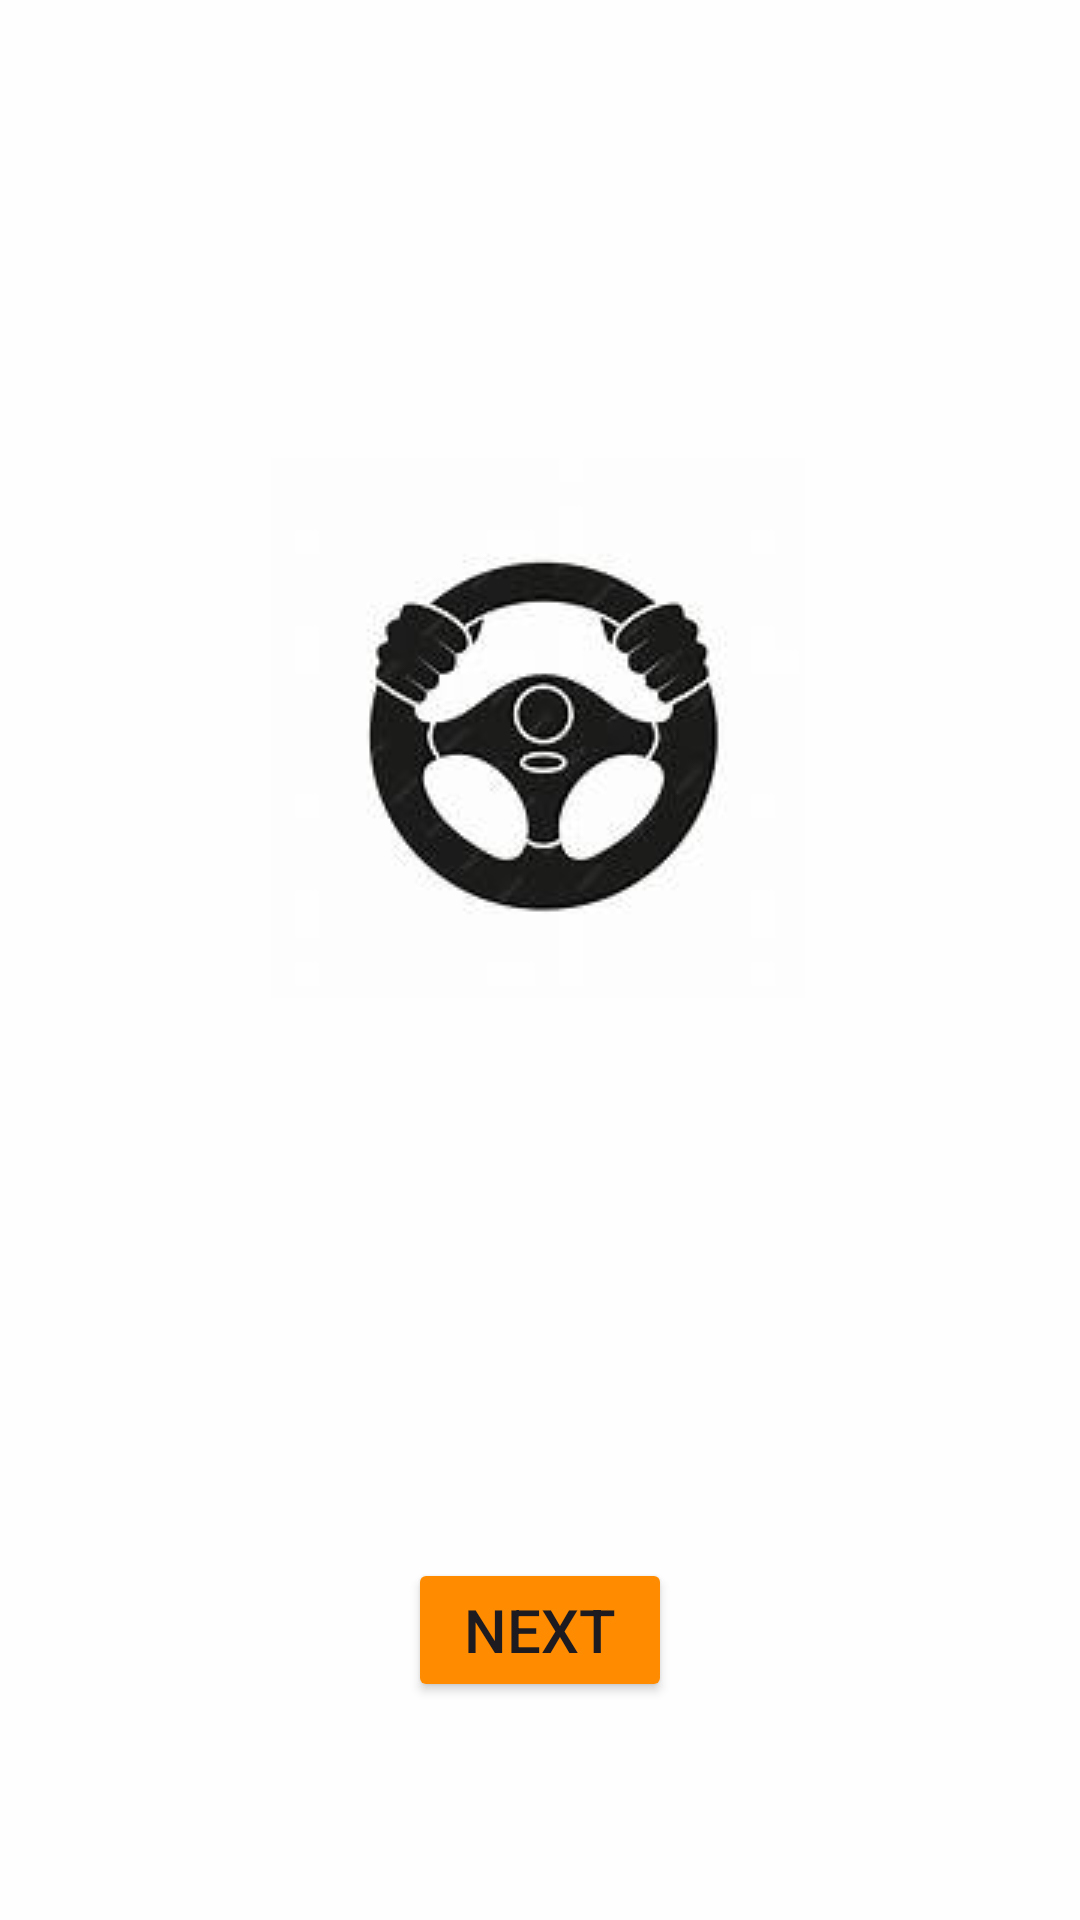

Screen size 1080×1920. Icon name, then its box in pixels as (x1, y1, x2, y2):
driver: (369, 560, 719, 912)
